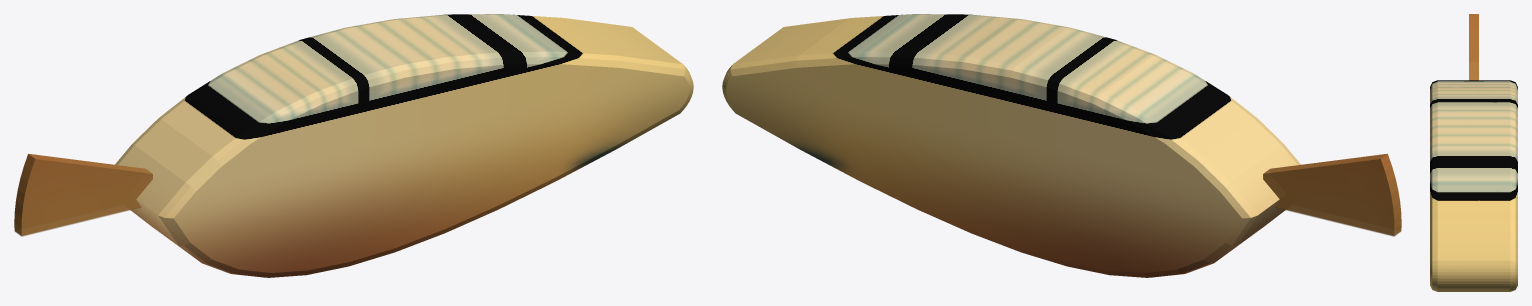
File: fish-tropical-hero.glb
The picture shows the model from 3 angles, left to right: view 1: azimuth 30°, elevation 25°; view 2: azimuth 150°, elevation 25°; view 3: azimuth 270°, elevation 25°; orthographic projection. The views are drawn at different scales.
Size of the model in its own units: 2.3 by 0.6357 by 0.3808.
2 materials, 2 textured.
